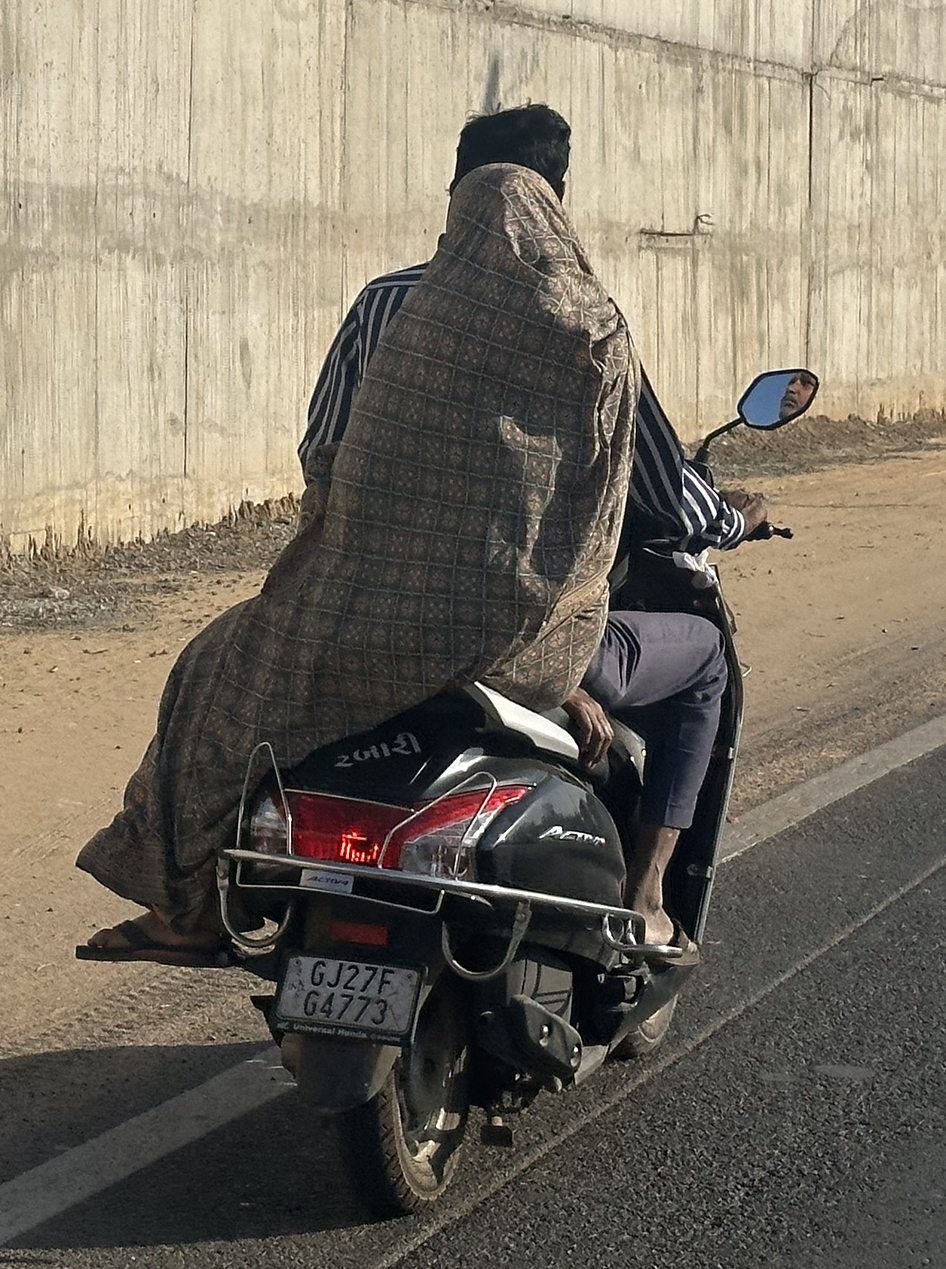BikeWithRider: (61, 93, 828, 1219)
NoHelmet: (431, 157, 589, 296), (441, 95, 585, 203)
